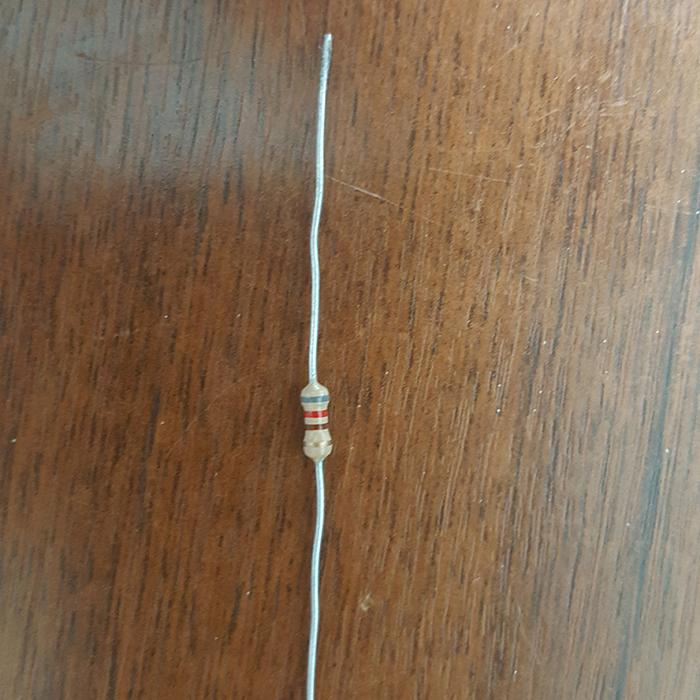resistor: (299, 380, 333, 463)
